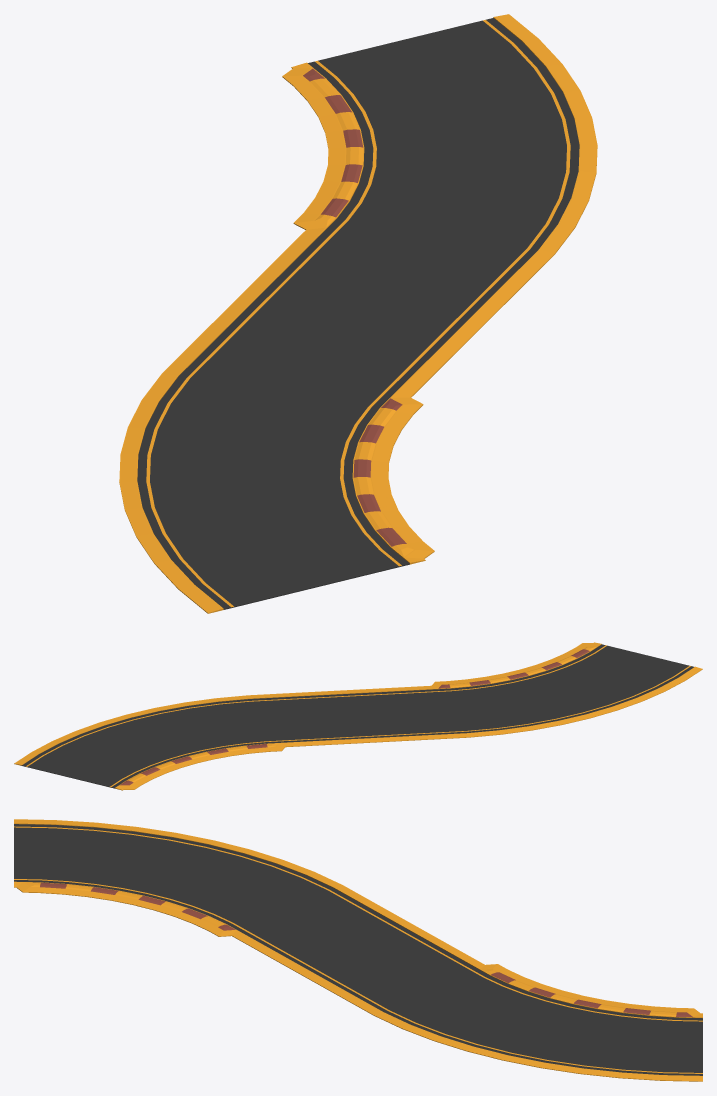
Rendered from SM_Racetrack_RunOff_Curb_Shift_60x60m.fbx.
The picture shows the model from 3 angles, top to bottom: view 1: azimuth 30°, elevation 25°; view 2: azimuth 150°, elevation 25°; view 3: azimuth 270°, elevation 25°; orthographic projection. The views are drawn at different scales.
Parts seen in each view (by area): view 1: SM_Racetrack_RunOff_Curb_Shift_60x60m; view 2: SM_Racetrack_RunOff_Curb_Shift_60x60m; view 3: SM_Racetrack_RunOff_Curb_Shift_60x60m.
Boxes of the visible parts, x1,y1,x2,y2 form: SM_Racetrack_RunOff_Curb_Shift_60x60m: (119, 14, 597, 613); SM_Racetrack_RunOff_Curb_Shift_60x60m: (14, 642, 702, 790); SM_Racetrack_RunOff_Curb_Shift_60x60m: (14, 819, 702, 1081).
Bounding box in the file's own units: 54 × 0.15 × 60.
